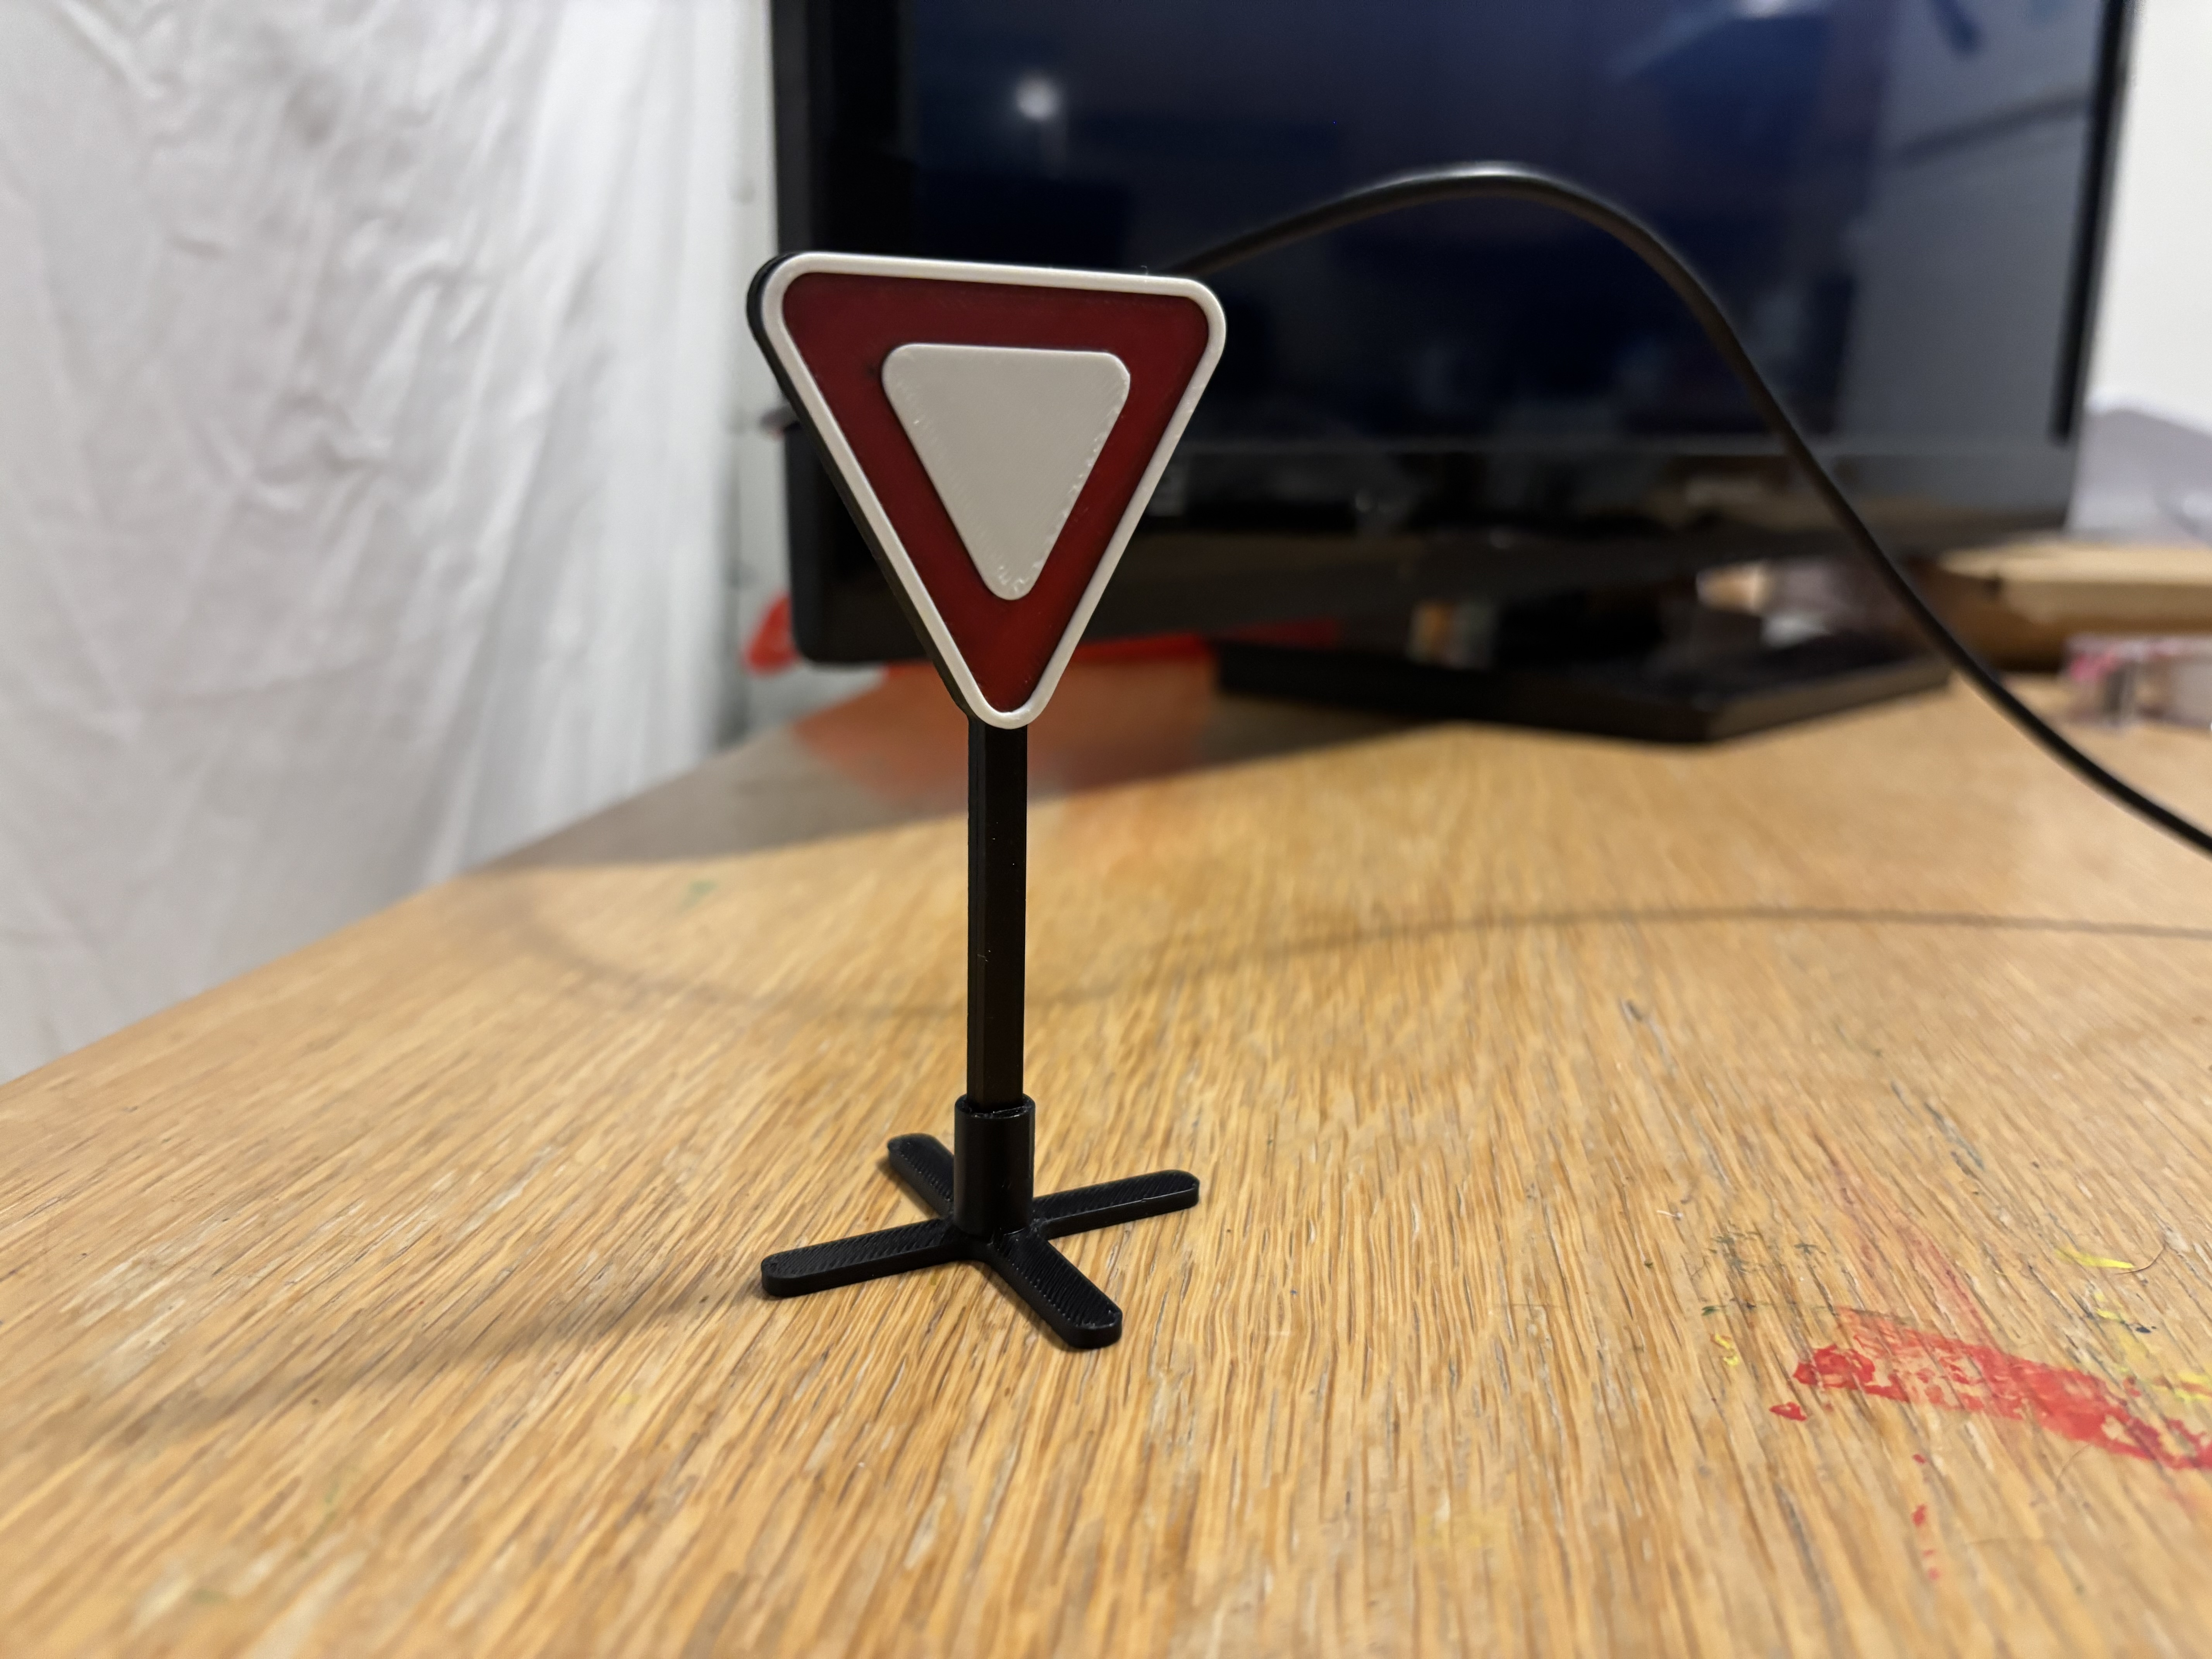sign_yield: (740, 247, 1237, 725)
